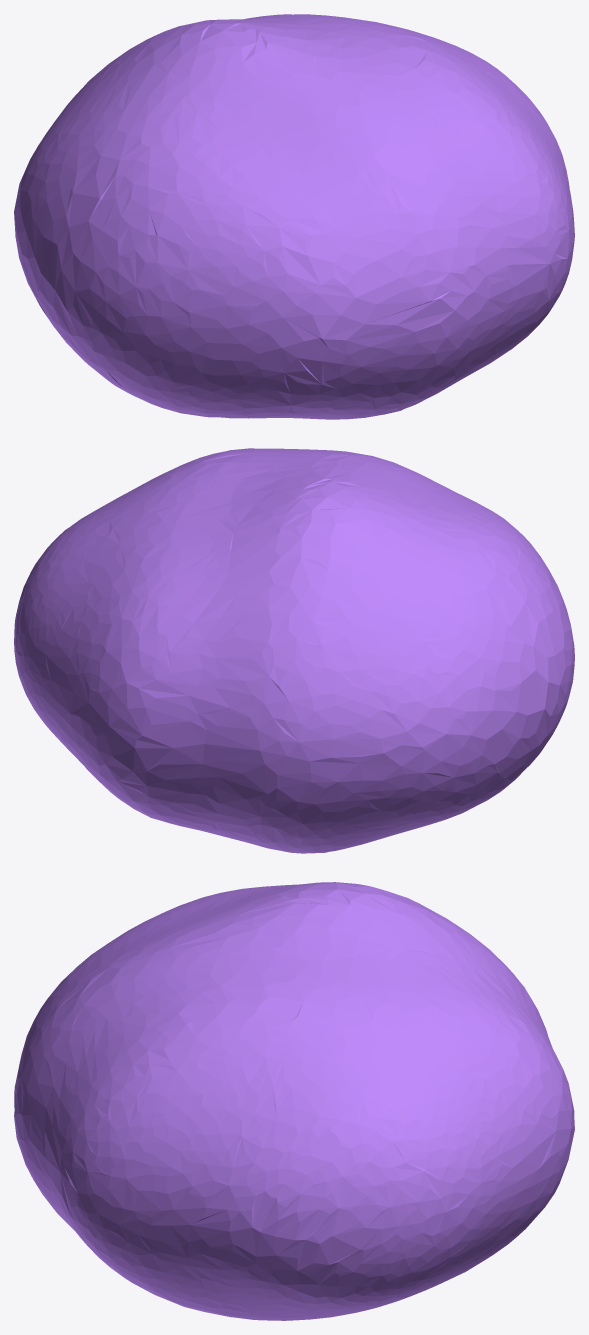
Rendered from beanbag-violet.glb.
The picture shows the model from 3 angles, top to bottom: view 1: azimuth 30°, elevation 25°; view 2: azimuth 150°, elevation 25°; view 3: azimuth 270°, elevation 25°; orthographic projection. The views are drawn at different scales.
Parts seen in each view (by area): view 1: fabric-violet; view 2: fabric-violet; view 3: fabric-violet.
Boxes of the visible parts, x1=… form: fabric-violet: x1=14, y1=14, x2=574, y2=419; fabric-violet: x1=14, y1=448, x2=574, y2=853; fabric-violet: x1=14, y1=882, x2=574, y2=1320.
Bounding box in the file's own units: 1.25 × 0.842 × 1.17.
